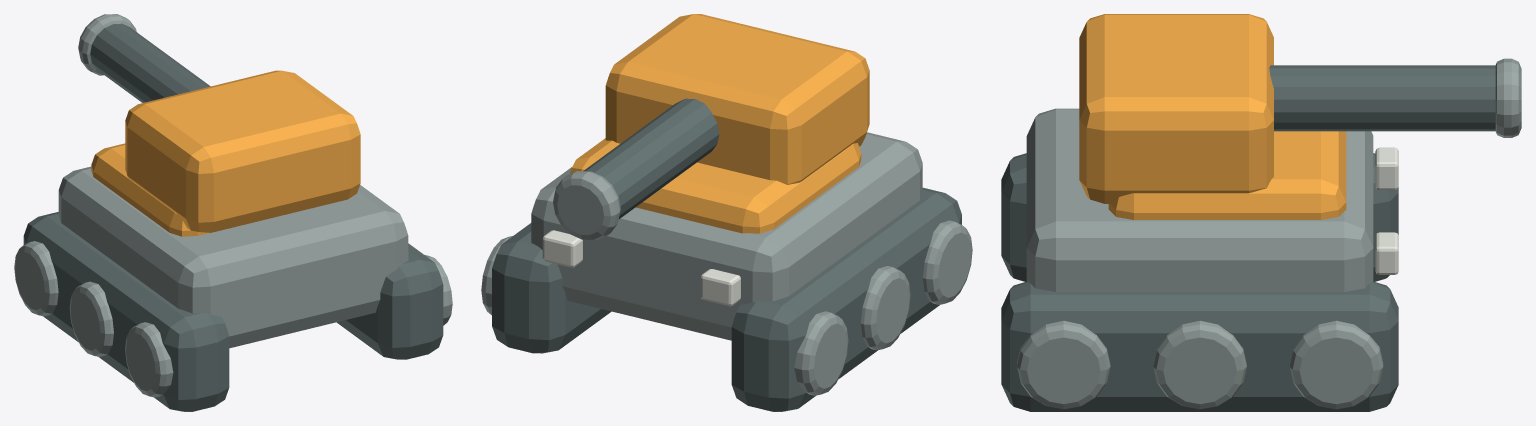
The model's file is tank.glb.
3 renders of one model, left to right at view 1: azimuth 30°, elevation 25°; view 2: azimuth 150°, elevation 25°; view 3: azimuth 270°, elevation 25°, orthographic. The views are drawn at different scales.
Parts seen in each view (by area): view 1: Armored hull.001, Turret.001, Track housing.002, Track housing.003, Gun barrel.001, Orange armor.001, Road wheel.006, Road wheel.008, Road wheel.007, Muzzle rim.001, Road wheel.009; view 2: Armored hull.001, Turret.001, Track housing.002, Orange armor.001, Track housing.003, Gun barrel.001, Muzzle rim.001, Road wheel.008, Road wheel.007, Road wheel.006, Headlight.003, Headlight.002 (+1 smaller); view 3: Turret.001, Armored hull.001, Track housing.003, Gun barrel.001, Orange armor.001, Road wheel.011, Road wheel.009, Road wheel.010, Track housing.002, Muzzle rim.001, Headlight.002, Headlight.003.
Boxes of the visible parts, box(x1,y1,x2,y2) form: Armored hull.001: box(58, 166, 408, 348); Turret.001: box(125, 70, 360, 232); Track housing.002: box(23, 212, 229, 411); Track housing.003: box(337, 243, 443, 359); Gun barrel.001: box(90, 23, 210, 102); Orange armor.001: box(91, 143, 208, 236); Road wheel.006: box(125, 322, 173, 397); Road wheel.008: box(14, 241, 58, 316); Road wheel.007: box(69, 281, 113, 356); Muzzle rim.001: box(78, 14, 136, 75); Road wheel.009: box(425, 255, 452, 325); Armored hull.001: box(531, 132, 922, 340); Turret.001: box(605, 14, 869, 184); Track housing.002: box(731, 187, 961, 411); Orange armor.001: box(570, 138, 861, 233); Track housing.003: box(492, 223, 611, 353); Gun barrel.001: box(583, 98, 719, 218); Muzzle rim.001: box(553, 171, 620, 239); Road wheel.008: box(794, 311, 848, 395); Road wheel.007: box(861, 266, 910, 350); Road wheel.006: box(923, 220, 972, 304); Headlight.003: box(542, 230, 582, 267); Headlight.002: box(701, 269, 740, 306); Turret.001: box(1079, 14, 1273, 203); Armored hull.001: box(1026, 108, 1373, 291); Track housing.003: box(1001, 281, 1398, 411); Gun barrel.001: box(1269, 65, 1495, 131); Orange armor.001: box(1108, 131, 1346, 219); Road wheel.011: box(1289, 320, 1383, 409); Road wheel.009: box(1017, 320, 1110, 409); Road wheel.010: box(1153, 320, 1246, 409); Track housing.002: box(1001, 153, 1398, 281); Muzzle rim.001: box(1495, 58, 1521, 137); Headlight.002: box(1375, 147, 1398, 190); Headlight.003: box(1375, 232, 1398, 274).
Size of the model in its own units: 1.08 by 0.805 by 1.34.
